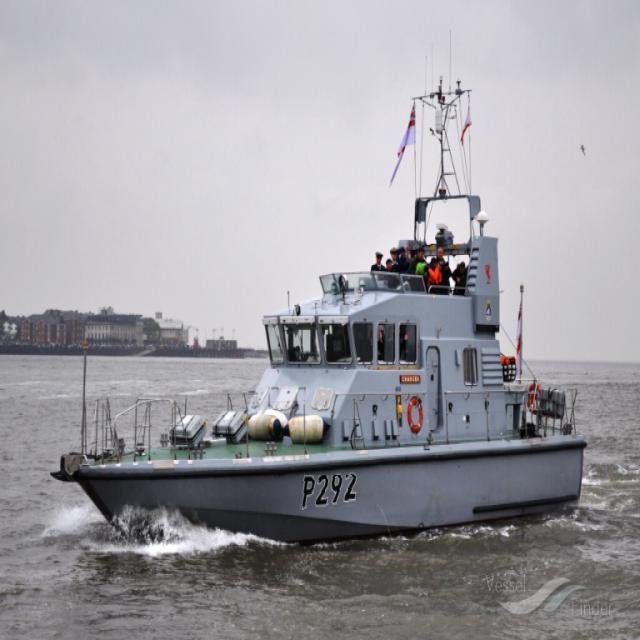OCR: (296, 475, 362, 516)
